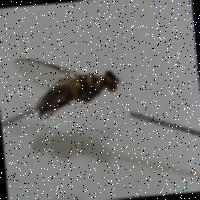Oriental-fruit-fly: (0, 31, 131, 137)
